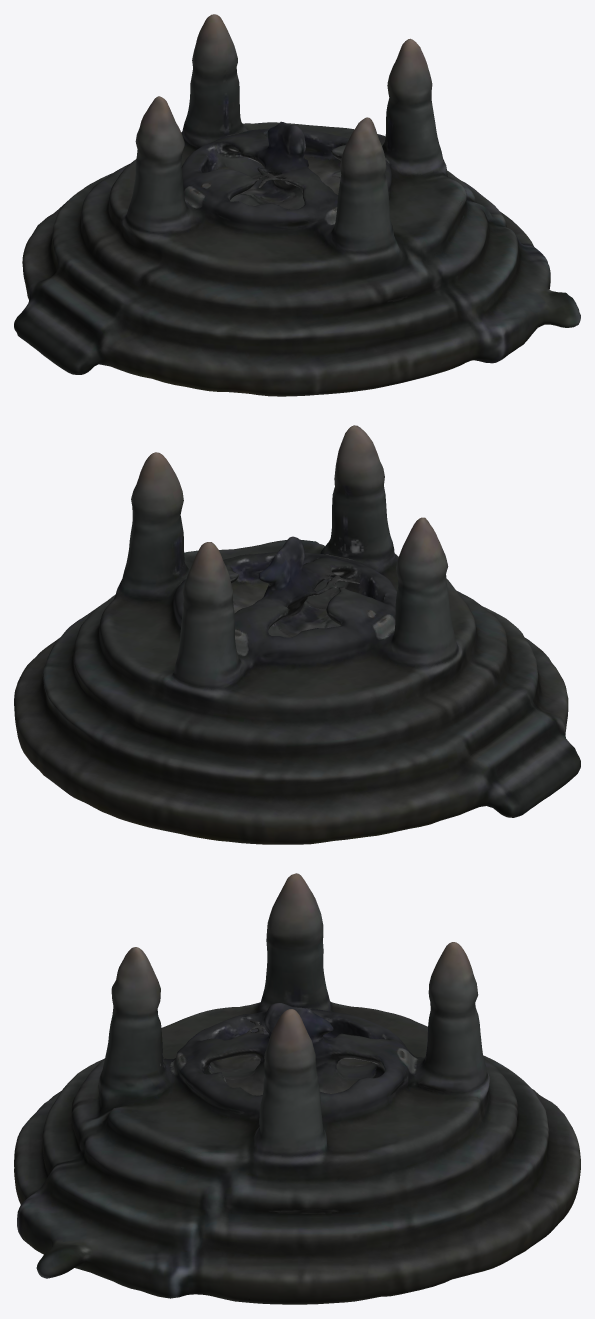
File: 935349baa49e_altar_made_with_rou.fbx
3 renders of one model, top to bottom at view 1: azimuth 30°, elevation 25°; view 2: azimuth 150°, elevation 25°; view 3: azimuth 270°, elevation 25°, orthographic. The views are drawn at different scales.
Parts seen in each view (by area): view 1: mesh; view 2: mesh; view 3: mesh.
Boxes of the visible parts, box(x1,y1,x2,y2) form: mesh: box(14, 14, 580, 396); mesh: box(14, 425, 580, 844); mesh: box(14, 873, 580, 1304).
Size of the model in its own units: 99.87 by 47.94 by 96.2.
